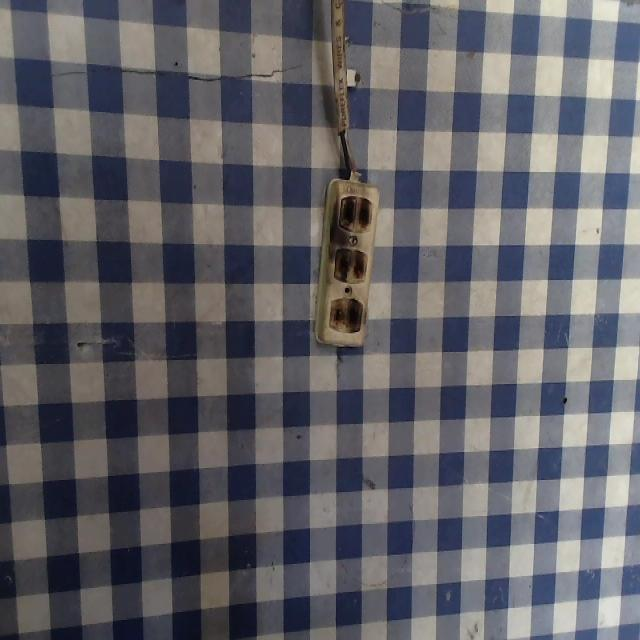-: (324, 280, 367, 340), (333, 185, 378, 239), (326, 239, 372, 288)
